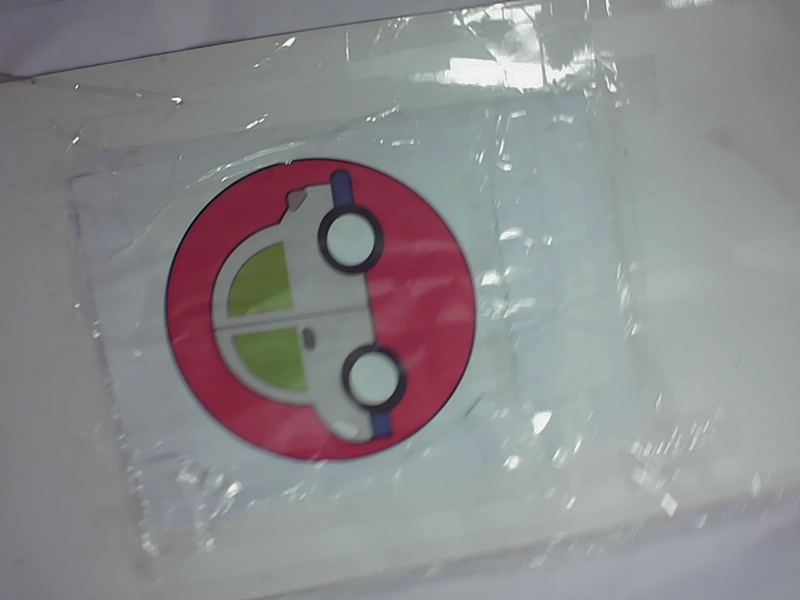areaC: (155, 157, 488, 468)
